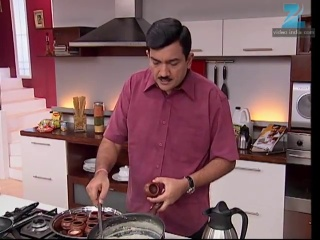person: (81, 18, 238, 227)
